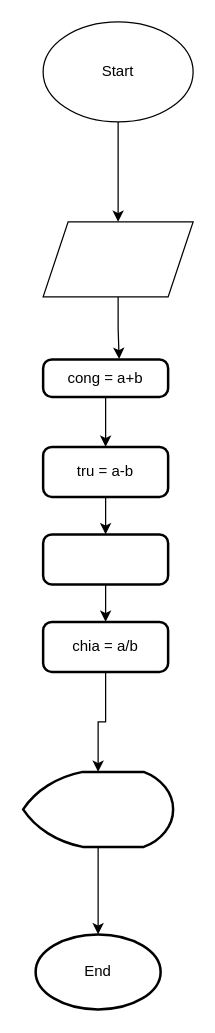
This 215x1033 diagram has some shape labels left out. Here are the shapes that lost their labels. From the top down, the box of each, then its label:
(42, 221, 193, 297): Nhap hai so bat ki a,b
(41, 532, 169, 585): nhan = a*b
(21, 770, 174, 848): cong,tru,nhan,chia
